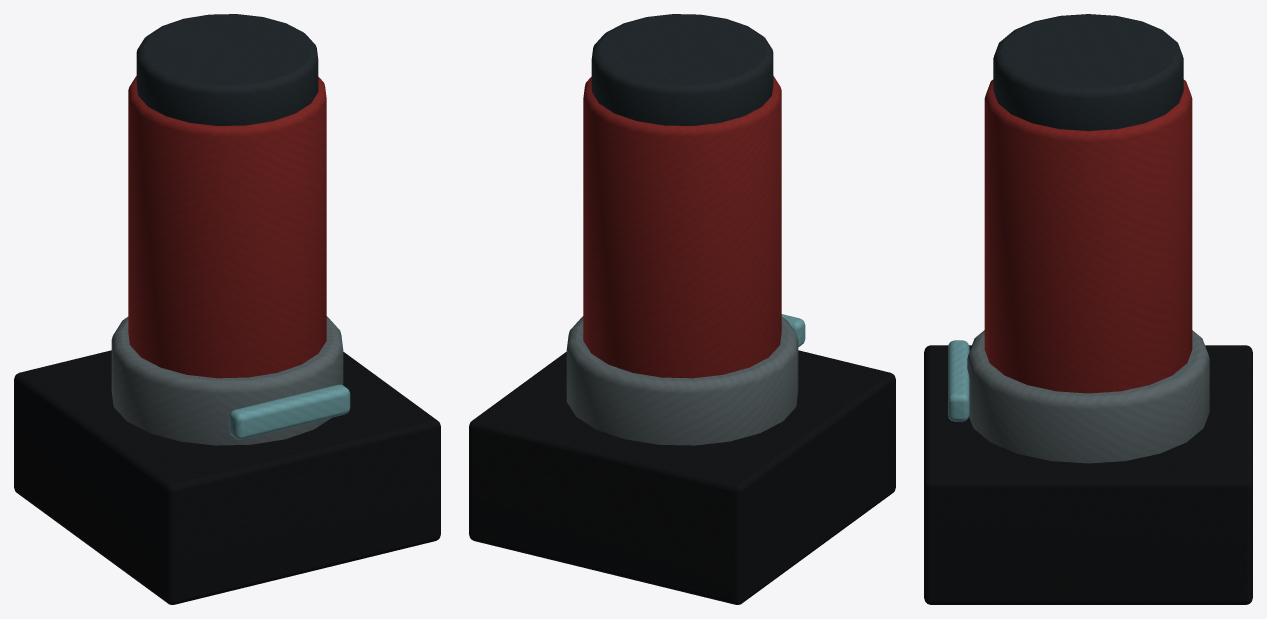
Rendered from WarningBeacon.fbx.
3 renders of one model, left to right at view 1: azimuth 30°, elevation 25°; view 2: azimuth 150°, elevation 25°; view 3: azimuth 270°, elevation 25°, orthographic. The views are drawn at different scales.
Parts seen in each view (by area): view 1: WarningBeacon_Mesh; view 2: WarningBeacon_Mesh; view 3: WarningBeacon_Mesh.
Boxes of the visible parts, <box> form: WarningBeacon_Mesh: <box>14,14,440,604</box>; WarningBeacon_Mesh: <box>469,14,895,604</box>; WarningBeacon_Mesh: <box>924,14,1252,604</box>.
Bounding box in the file's own units: 38 × 62 × 38.
5 materials, 5 textured.
